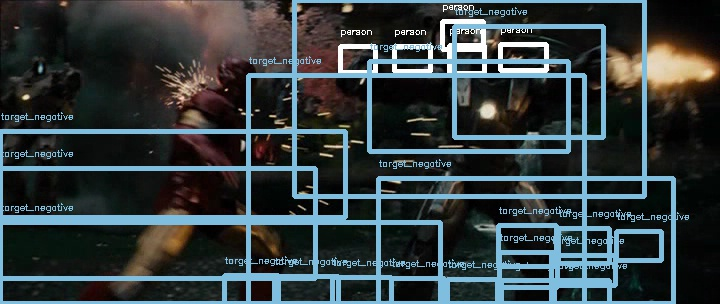person: (208, 54, 256, 105), (207, 54, 255, 105), (209, 54, 257, 105), (208, 53, 256, 104), (208, 55, 256, 106)
target_negative: (59, 97, 644, 210), (81, 51, 165, 166), (602, 26, 704, 92), (280, 241, 673, 257), (141, 45, 167, 109), (100, 296, 675, 297)
